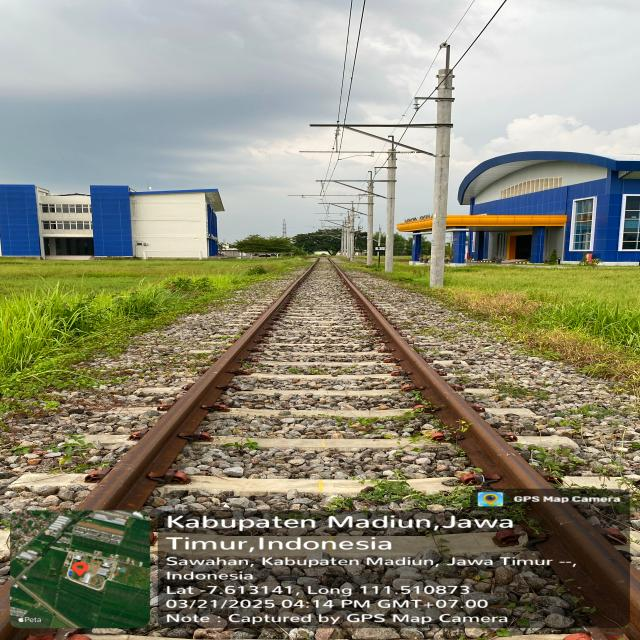rail-detection: (328, 258, 640, 627), (78, 257, 319, 510)
